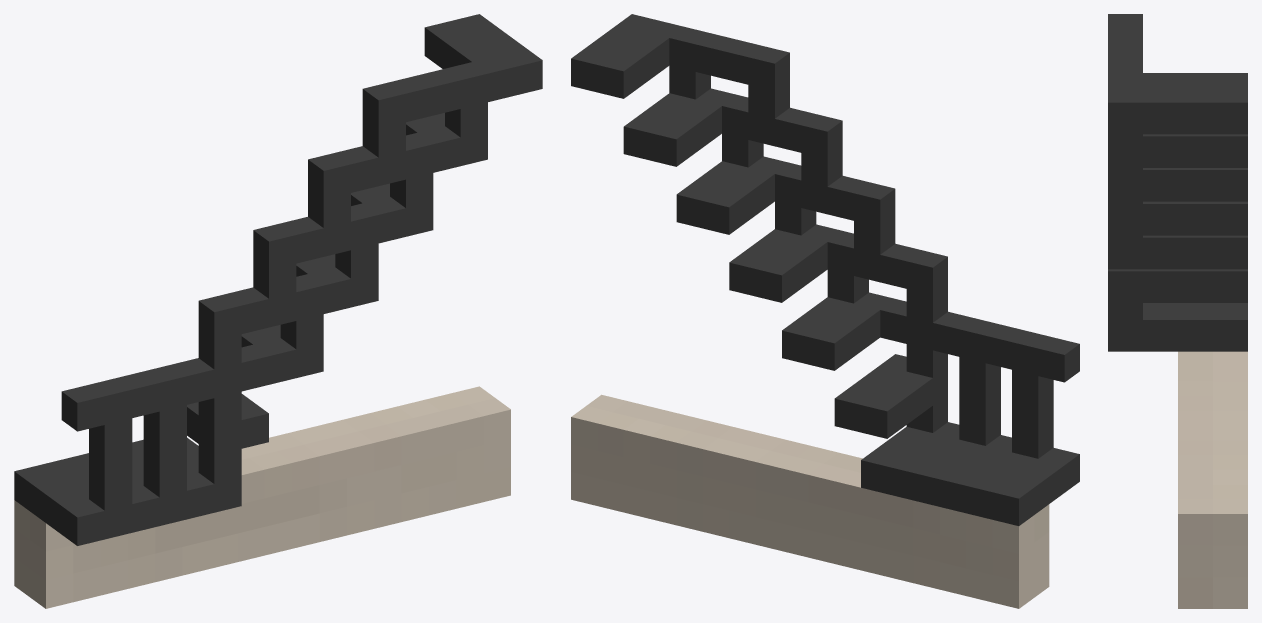
The model's file is palazzo23.glb.
3 renders of one model, left to right at view 1: azimuth 30°, elevation 25°; view 2: azimuth 150°, elevation 25°; view 3: azimuth 270°, elevation 25°, orthographic. The views are drawn at different scales.
Parts seen in each view (by area): view 1: Scale.Dx.Marcapiano; view 2: Scale.Dx.Marcapiano; view 3: Scale.Dx.Marcapiano.
Part boxes in pixels (bbox=[...]): Scale.Dx.Marcapiano: bbox=[14, 14, 542, 608]; Scale.Dx.Marcapiano: bbox=[571, 14, 1079, 608]; Scale.Dx.Marcapiano: bbox=[1108, 14, 1247, 608].
Size of the model in its own units: 17 by 16 by 4.
2 materials, 2 textured.
